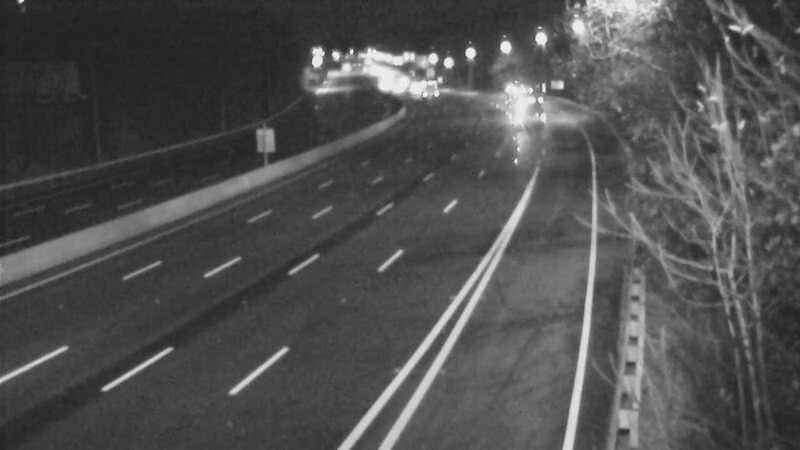vehicle: (387, 62, 437, 112), (489, 63, 539, 113), (398, 64, 448, 114), (497, 86, 547, 136)
